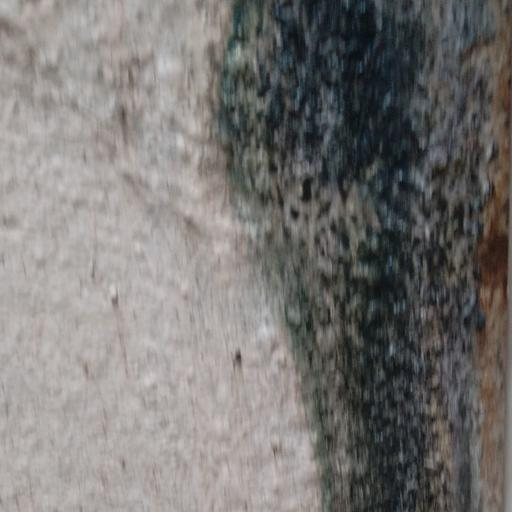algae: (170, 10, 512, 512)
